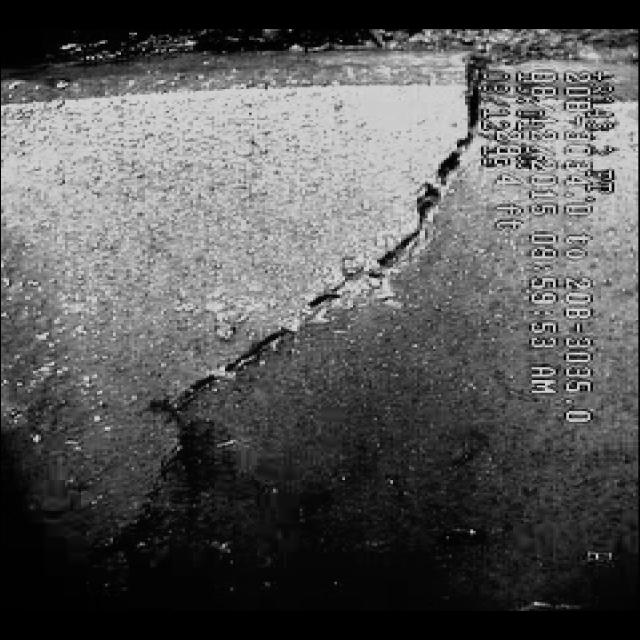Crack: (168, 202, 474, 474)
